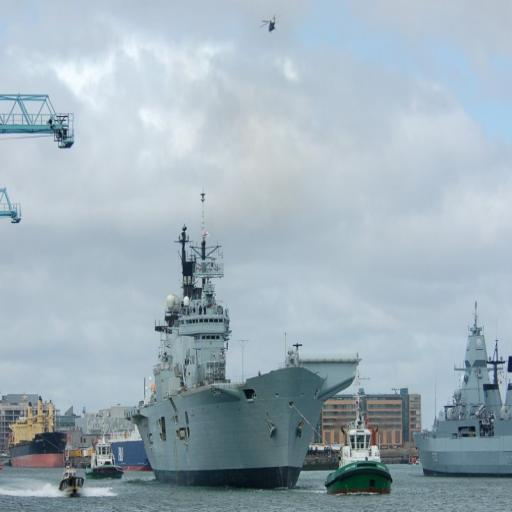Portanaves: (125, 186, 365, 492)
